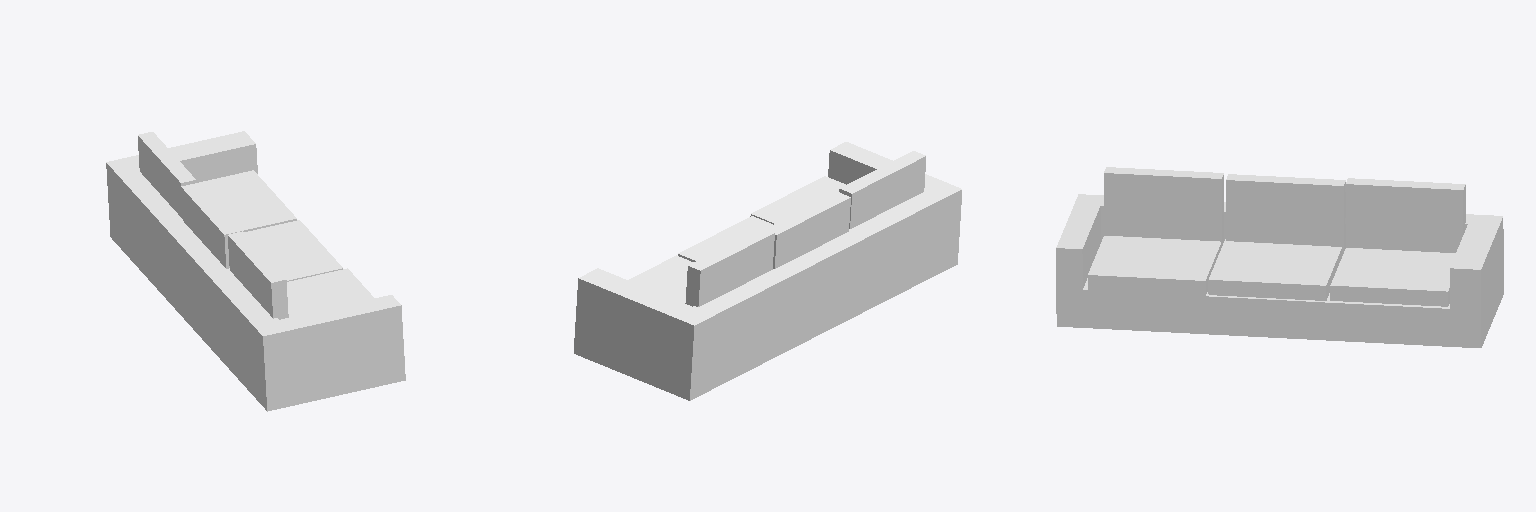
The model's file is yxh.obj.
3 views of the same model, side by side, from view 1: azimuth 30°, elevation 25°; view 2: azimuth 150°, elevation 25°; view 3: azimuth 270°, elevation 25° (orthographic).
Parts seen in each view (by area): view 1: trans_[number redacted]_mesh13_mesh13-geometry_Geometry_0, trans_[number redacted]_mesh3_mesh3-geometry_Geometry_0, trans_[number redacted]_mesh1_mesh1-geometry_Geometry_0, trans_[number redacted]_mesh7_mesh7-geometry_Geometry_0, trans_[number redacted]_mesh5_mesh5-geometry_Geometry_0, trans_[number redacted]_mesh11_mesh11-geometry_Geometry_0, trans_[number redacted]_mesh9_mesh9-geometry_Geometry_0; view 2: trans_[number redacted]_mesh13_mesh13-geometry_Geometry_0, trans_[number redacted]_mesh11_mesh11-geometry_Geometry_0, trans_[number redacted]_mesh7_mesh7-geometry_Geometry_0, trans_[number redacted]_mesh9_mesh9-geometry_Geometry_0, trans_[number redacted]_mesh5_mesh5-geometry_Geometry_0, trans_[number redacted]_mesh3_mesh3-geometry_Geometry_0, trans_[number redacted]_mesh1_mesh1-geometry_Geometry_0; view 3: trans_[number redacted]_mesh13_mesh13-geometry_Geometry_0, trans_[number redacted]_mesh7_mesh7-geometry_Geometry_0, trans_[number redacted]_mesh11_mesh11-geometry_Geometry_0, trans_[number redacted]_mesh9_mesh9-geometry_Geometry_0, trans_[number redacted]_mesh5_mesh5-geometry_Geometry_0, trans_[number redacted]_mesh1_mesh1-geometry_Geometry_0, trans_[number redacted]_mesh3_mesh3-geometry_Geometry_0.
Part boxes in pixels (left/top/right/bottom): trans_[number redacted]_mesh13_mesh13-geometry_Geometry_0: left=106, top=131, right=405, bottom=411; trans_[number redacted]_mesh3_mesh3-geometry_Geometry_0: left=197, top=170, right=296, bottom=231; trans_[number redacted]_mesh1_mesh1-geometry_Geometry_0: left=244, top=220, right=342, bottom=281; trans_[number redacted]_mesh7_mesh7-geometry_Geometry_0: left=228, top=231, right=288, bottom=319; trans_[number redacted]_mesh5_mesh5-geometry_Geometry_0: left=287, top=268, right=373, bottom=317; trans_[number redacted]_mesh11_mesh11-geometry_Geometry_0: left=138, top=132, right=196, bottom=218; trans_[number redacted]_mesh9_mesh9-geometry_Geometry_0: left=181, top=183, right=239, bottom=268; trans_[number redacted]_mesh13_mesh13-geometry_Geometry_0: left=574, top=142, right=961, bottom=400; trans_[number redacted]_mesh11_mesh11-geometry_Geometry_0: left=685, top=228, right=774, bottom=306; trans_[number redacted]_mesh7_mesh7-geometry_Geometry_0: left=839, top=151, right=925, bottom=228; trans_[number redacted]_mesh9_mesh9-geometry_Geometry_0: left=766, top=192, right=850, bottom=268; trans_[number redacted]_mesh5_mesh5-geometry_Geometry_0: left=750, top=176, right=845, bottom=224; trans_[number redacted]_mesh3_mesh3-geometry_Geometry_0: left=628, top=255, right=693, bottom=302; trans_[number redacted]_mesh1_mesh1-geometry_Geometry_0: left=678, top=216, right=772, bottom=261; trans_[number redacted]_mesh13_mesh13-geometry_Geometry_0: left=1056, top=194, right=1503, bottom=347; trans_[number redacted]_mesh7_mesh7-geometry_Geometry_0: left=1104, top=167, right=1223, bottom=245; trans_[number redacted]_mesh11_mesh11-geometry_Geometry_0: left=1345, top=178, right=1465, bottom=252; trans_[number redacted]_mesh9_mesh9-geometry_Geometry_0: left=1226, top=174, right=1345, bottom=255; trans_[number redacted]_mesh5_mesh5-geometry_Geometry_0: left=1088, top=236, right=1221, bottom=295; trans_[number redacted]_mesh1_mesh1-geometry_Geometry_0: left=1208, top=239, right=1341, bottom=300; trans_[number redacted]_mesh3_mesh3-geometry_Geometry_0: left=1330, top=248, right=1455, bottom=306.
Size of the model in its own units: 1.15 by 0.7084 by 2.38.